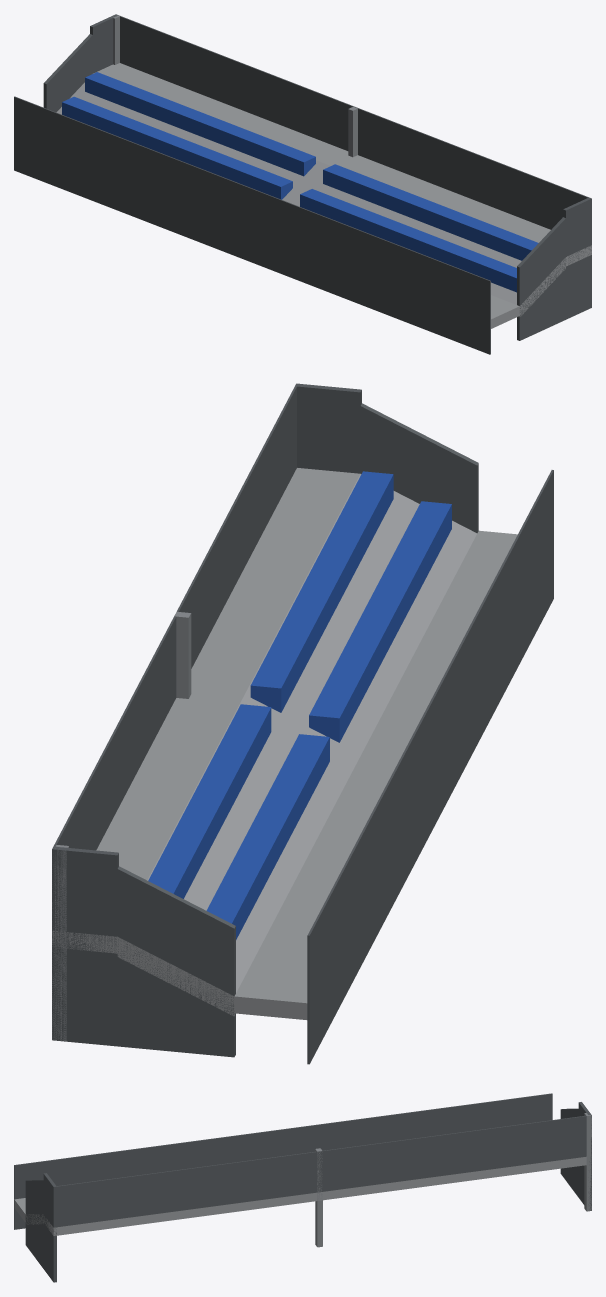
The model's file is mza_stand_trib_p02.glb.
The picture shows the model from 3 angles, top to bottom: view 1: azimuth 30°, elevation 25°; view 2: azimuth 150°, elevation 25°; view 3: azimuth 270°, elevation 25°; orthographic projection. The views are drawn at different scales.
Visible parts, largest first — view 1: monza-trib-p02; view 2: monza-trib-p02; view 3: monza-trib-p02.
Part boxes in pixels (left/top/right/bottom): monza-trib-p02: left=14, top=14, right=591, bottom=354; monza-trib-p02: left=52, top=383, right=553, bottom=1064; monza-trib-p02: left=14, top=1093, right=591, bottom=1282.
Bounding box in the file's own units: 7.91 × 2.82 × 15.46.
